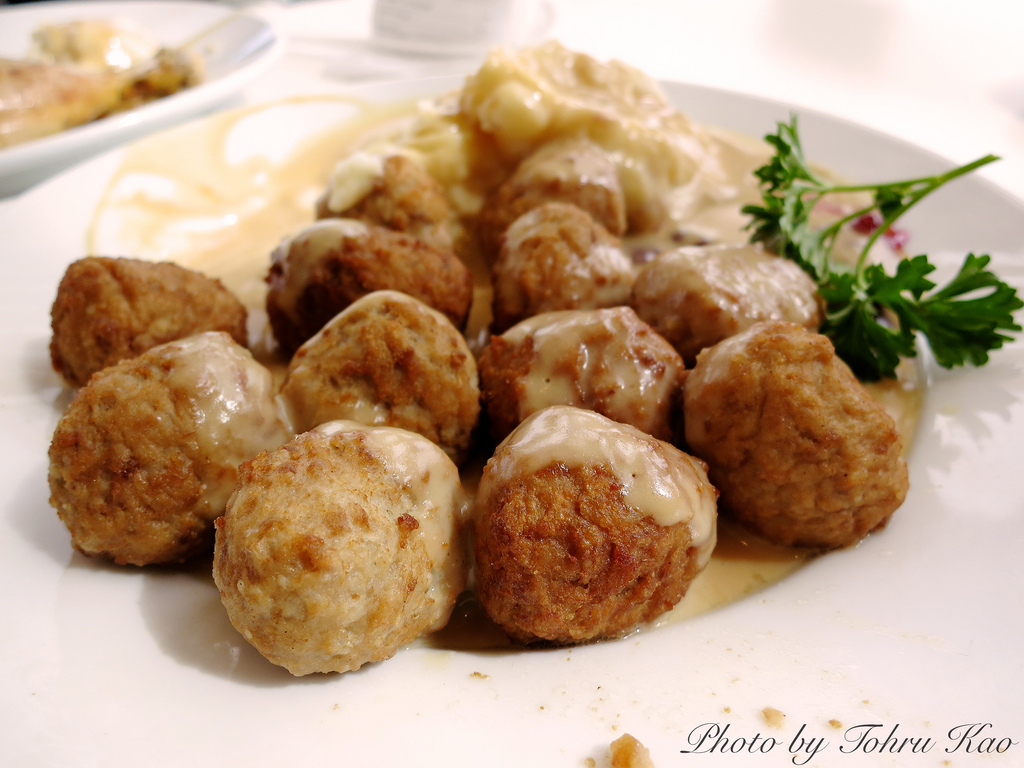meatballs: (221, 418, 460, 670), (687, 316, 926, 550), (475, 429, 702, 629), (60, 338, 273, 549), (276, 280, 485, 438), (39, 248, 241, 364), (271, 213, 462, 326), (484, 320, 672, 431), (643, 241, 808, 343), (494, 200, 634, 315), (505, 148, 633, 235), (318, 148, 437, 229)
